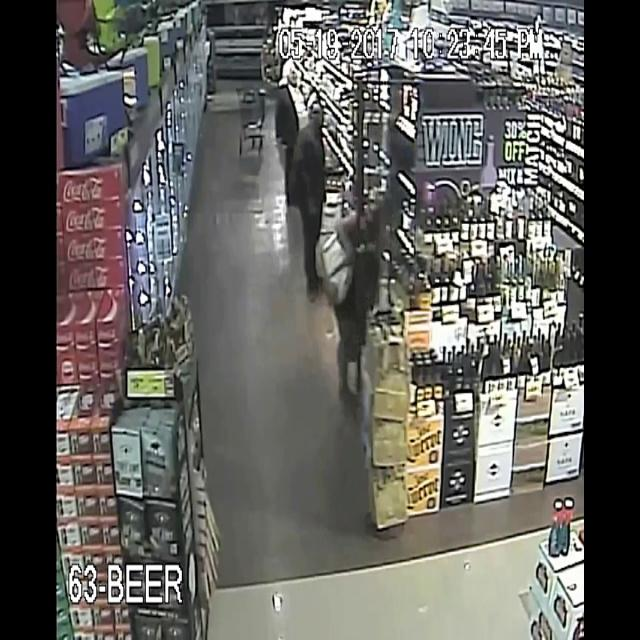normal: (264, 49, 306, 172), (296, 86, 338, 174)
shoplifting: (315, 170, 417, 425)
